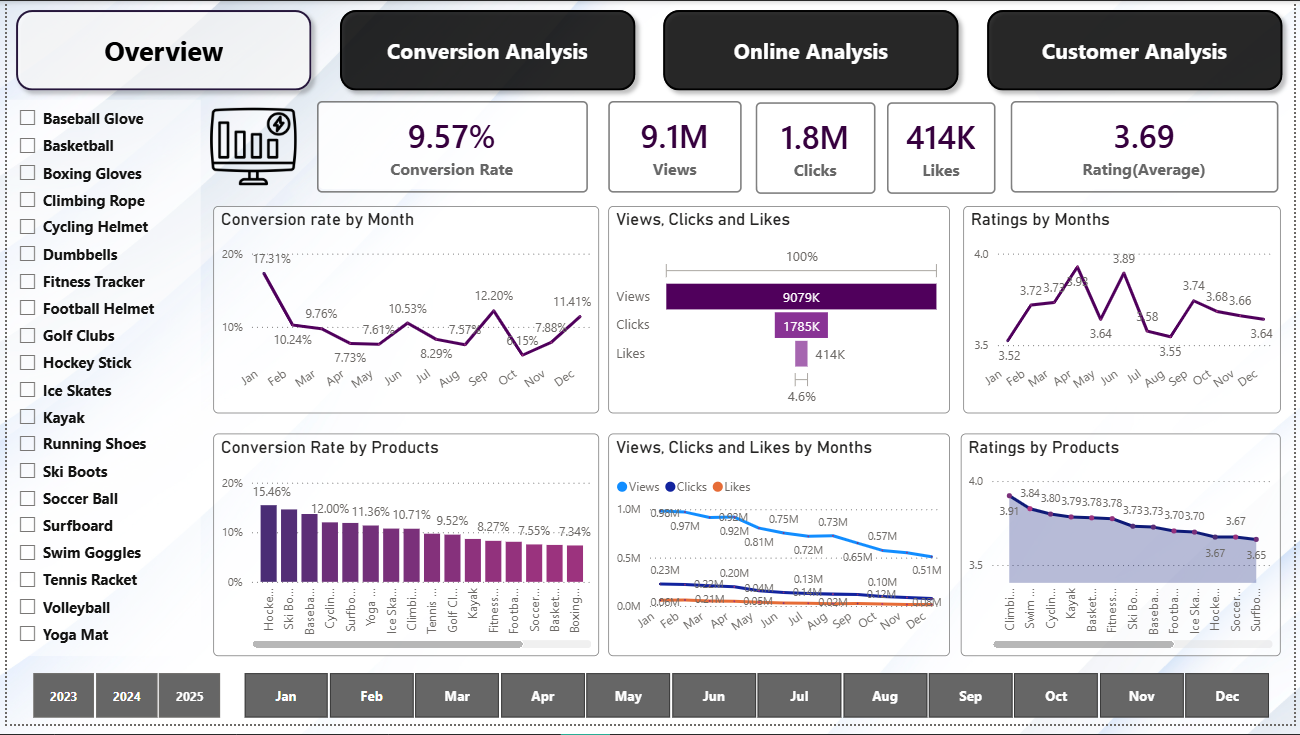

The dashboard page shown, as its layout file describes it:
{"tool":"powerbi","page":{"name":"Overview","canvas":[1280,720],"ordinal":0},"visuals":[{"type":"pageNavigator","box":[0,0,1280,98],"z":0},{"type":"slicer","fields":{"Values":["products.ProductName"]},"box":[0,98.3,192.8,553.6],"z":1000},{"type":"cardVisual","fields":{"Data":["Calculations.Views"]},"box":[598.3,100,133.1,90.8],"z":2000},{"type":"slicer","fields":{"Values":["Calendar.Year"]},"box":[0,661.8,236.4,58.5],"z":3000},{"type":"slicer","fields":{"Values":["Calendar.MonthNameShort"]},"box":[210.2,661.8,1069.8,58.5],"z":4000},{"type":"lineChart","title":"Conversion rate by Month","fields":{"Y":["Calculations.Conversion Rate"],"Category":["Calendar.MonthNameShort"]},"box":[205.3,204,384.4,206.5],"z":5000},{"type":"cardVisual","fields":{"Data":["Calculations.Conversion Rate"]},"box":[308.5,100,269.9,90.8],"z":6000},{"type":"cardVisual","fields":{"Data":["Calculations.Clicks"]},"box":[745.1,100.8,119.4,90.8],"z":7000},{"type":"cardVisual","fields":{"Data":["Calculations.Likes"]},"box":[875.7,100.8,108.2,90.8],"z":8000},{"type":"cardVisual","fields":{"Data":["Calculations.Rating(Average)"]},"box":[998.9,100,266.2,90.8],"z":9000},{"type":"clusteredColumnChart","title":"Conversion Rate by Products","fields":{"Category":["products.ProductName"],"Y":["Calculations.Conversion Rate"]},"box":[205.3,430.4,384.4,221.4],"z":10000},{"type":"funnel","fields":{"Y":["Calculations.Views","Calculations.Clicks","Calculations.Likes"]},"box":[598.3,204,339.6,206.5],"z":11000},{"type":"lineChart","title":"Views, Clicks and Likes by Months","fields":{"Category":["Calendar.MonthNameShort"],"Y":["Calculations.Views","Calculations.Clicks","Calculations.Likes"]},"box":[598.3,430.4,339.6,221.4],"z":12000},{"type":"lineChart","title":"Ratings by Months","fields":{"Category":["Calendar.MonthNameShort"],"Y":["Calculations.Rating(Average)"]},"box":[951.6,204,316,206.5],"z":13000},{"type":"areaChart","title":"Ratings by Products","fields":{"Category":["products.ProductName"],"Y":["Calculations.Rating(Average)"]},"box":[949.1,430.4,318.5,221.4],"z":14000},{"type":"image","box":[192.8,100.8,104.5,88.3],"z":15000}]}

Visuals, with their boxes in screenshot pixels (x1, y1, x2, y2), scaled from the page's 1280x720 canvas onto the 1300x735 screenshot:
pageNavigator: detection(0, 0, 1299, 100)
slicer - products.ProductName: detection(0, 100, 196, 665)
cardVisual - Calculations.Views: detection(608, 102, 743, 195)
slicer - Calendar.Year: detection(0, 676, 240, 734)
slicer - Calendar.MonthNameShort: detection(213, 676, 1299, 734)
"Conversion rate by Month" lineChart: detection(209, 208, 599, 419)
cardVisual - Calculations.Conversion Rate: detection(313, 102, 587, 195)
cardVisual - Calculations.Clicks: detection(757, 103, 878, 196)
cardVisual - Calculations.Likes: detection(889, 103, 999, 196)
cardVisual - Calculations.Rating(Average): detection(1015, 102, 1285, 195)
"Conversion Rate by Products" clusteredColumnChart: detection(209, 439, 599, 665)
funnel - Calculations.Views x Calculations.Clicks: detection(608, 208, 953, 419)
"Views, Clicks and Likes by Months" lineChart: detection(608, 439, 953, 665)
"Ratings by Months" lineChart: detection(966, 208, 1287, 419)
"Ratings by Products" areaChart: detection(964, 439, 1287, 665)
image: detection(196, 103, 302, 193)
